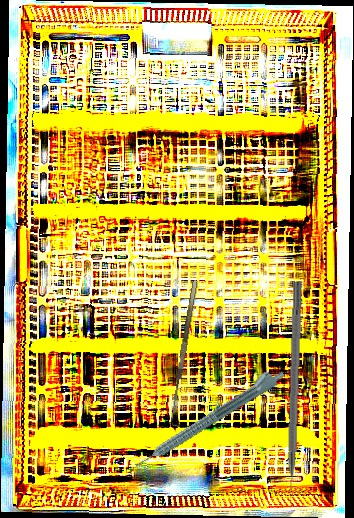Handpiece: (128, 362, 288, 472)
Hook Surgical: (167, 279, 206, 428), (283, 281, 304, 509)
